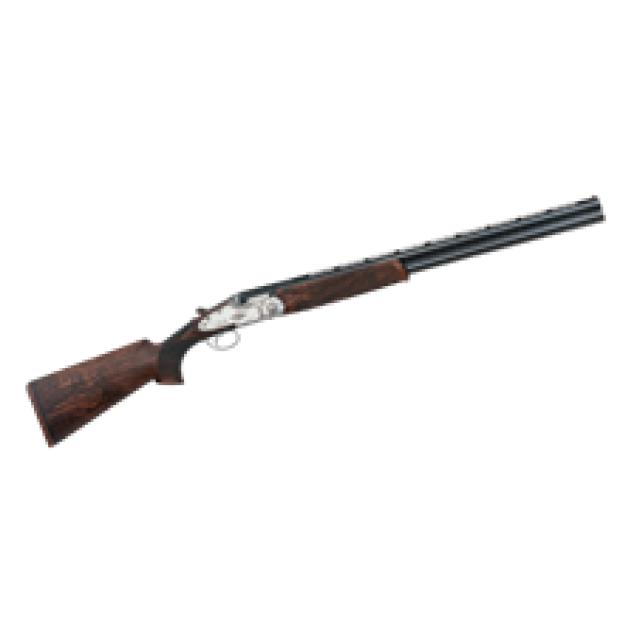rifle: (24, 190, 609, 462)
